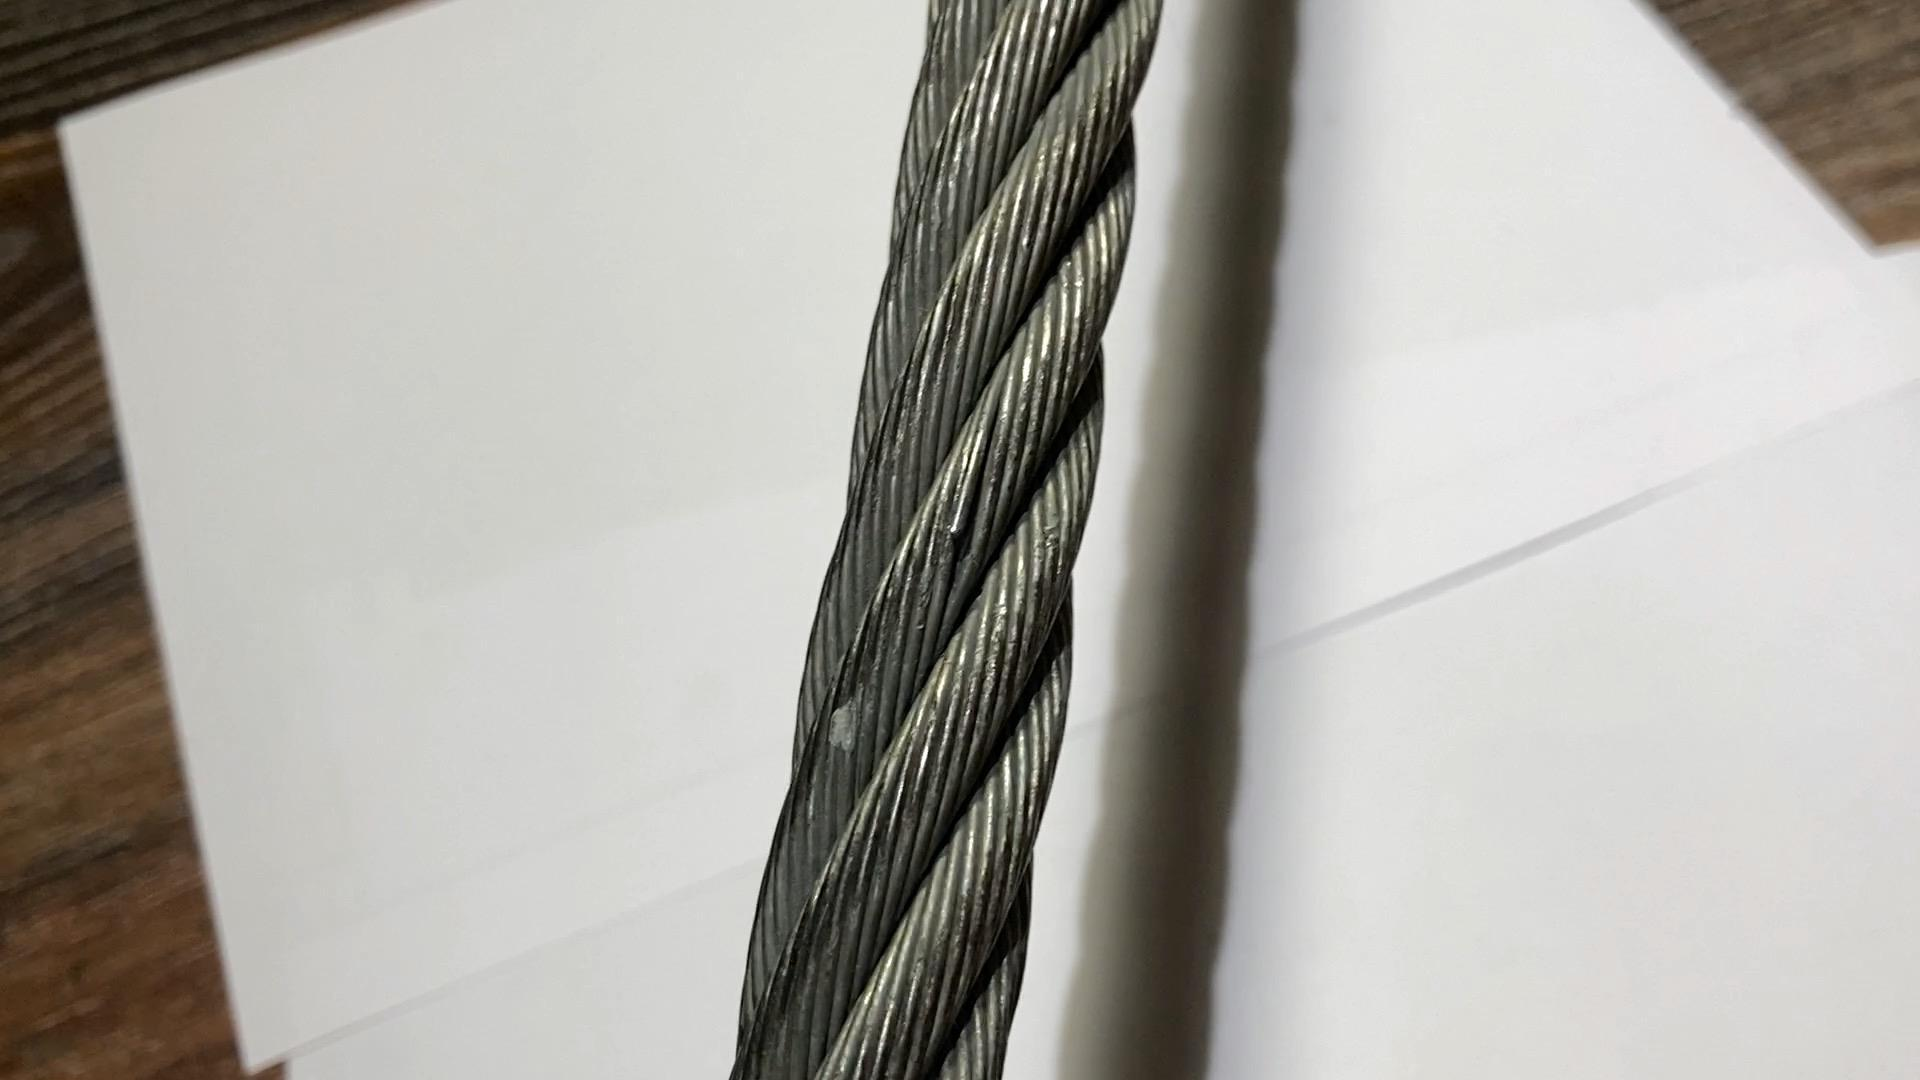break: (928, 477, 1004, 567)
